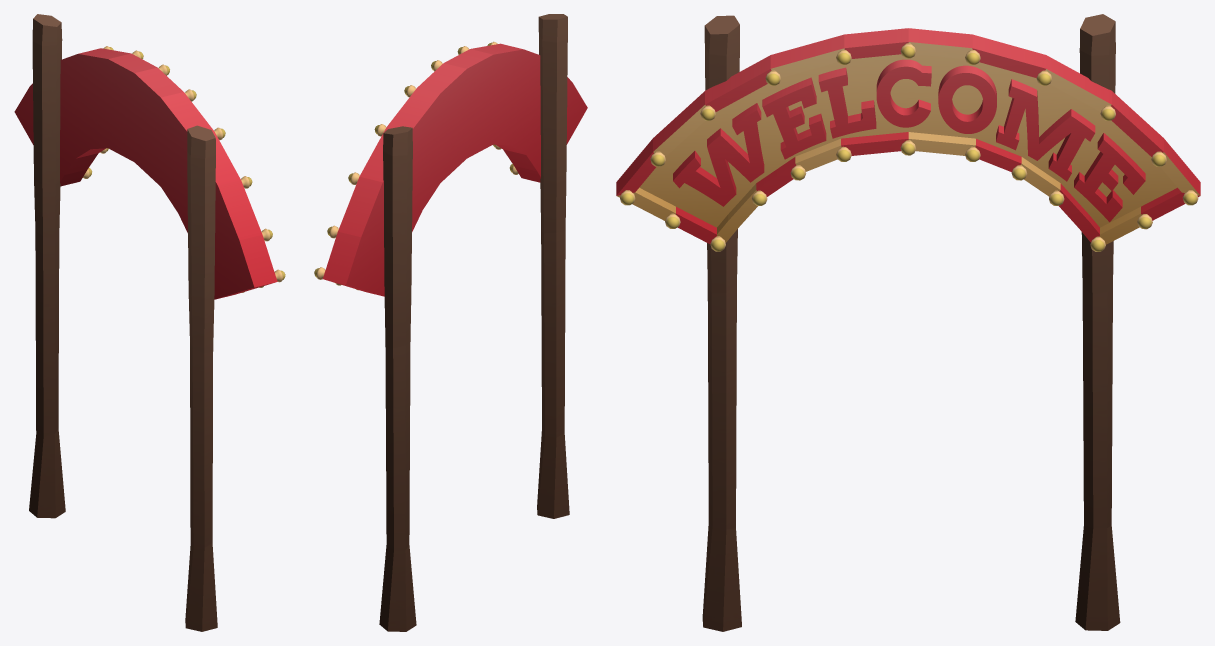
File: welcome_stick.fbx
The picture shows the model from 3 angles, left to right: view 1: azimuth 30°, elevation 25°; view 2: azimuth 150°, elevation 25°; view 3: azimuth 270°, elevation 25°; orthographic projection. The views are drawn at different scales.
Visible parts, largest first — view 1: welcome_stick; view 2: welcome_stick; view 3: welcome_stick.
Part boxes in pixels (x1,y1,x2,y2): welcome_stick: (14, 14, 285, 631); welcome_stick: (314, 14, 587, 631); welcome_stick: (616, 14, 1200, 631).
Size of the model in its own units: 31.93 by 249 by 220.
